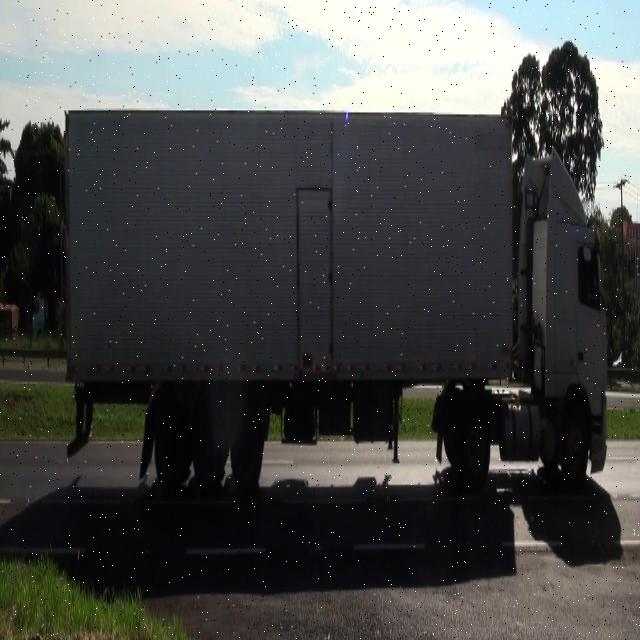-axle: (154, 401, 188, 491), (193, 405, 227, 495), (561, 406, 592, 490), (231, 406, 261, 487), (460, 415, 489, 487)
